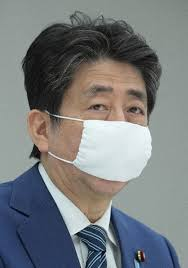cloth_mask: (29, 111, 152, 184)
